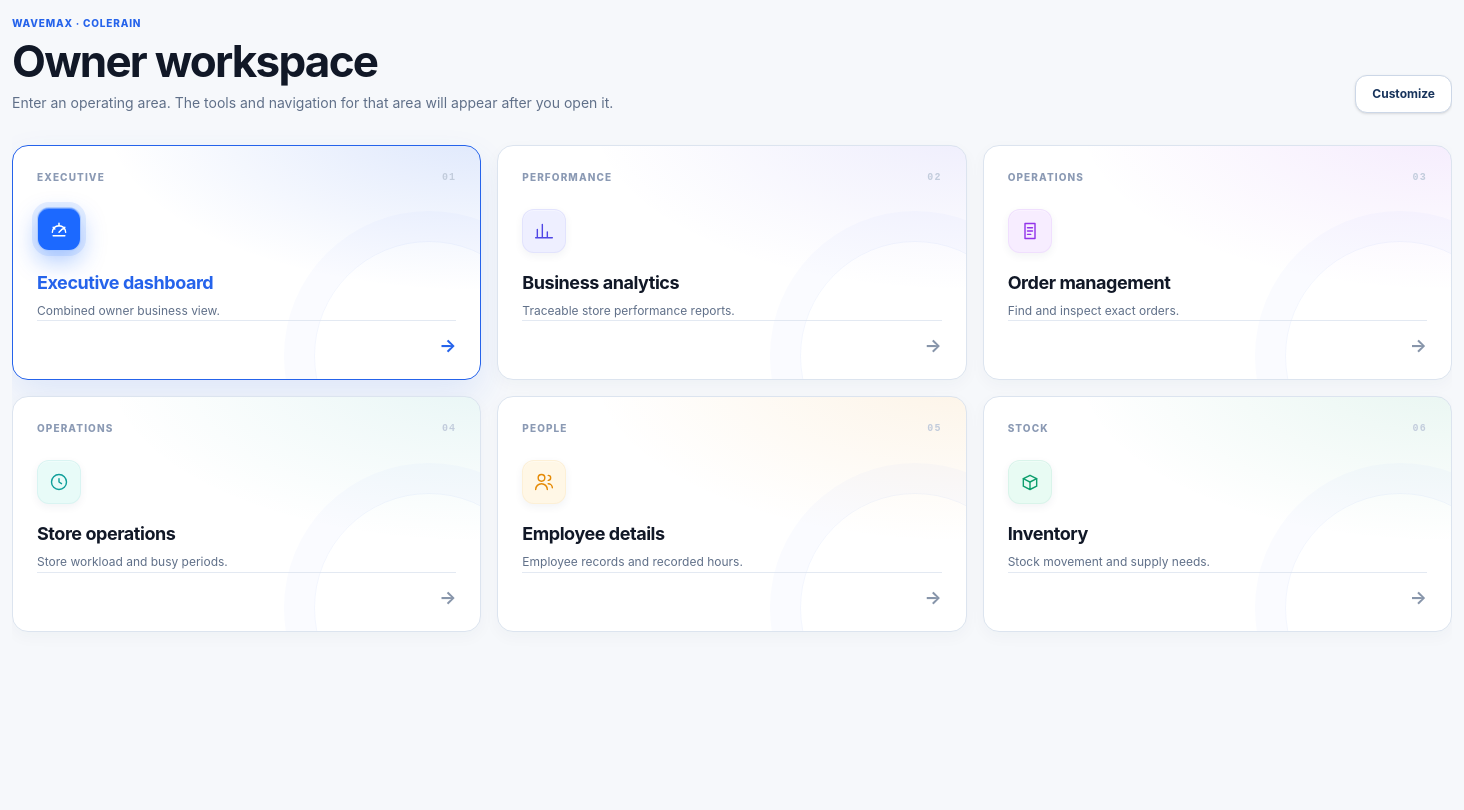
command center customization › hides a tile from the Command Center but keeps it restorable while customizing
Click the button "Customize" at point(1404, 94), box top-left (1355, 75), bottom-right (1452, 113)
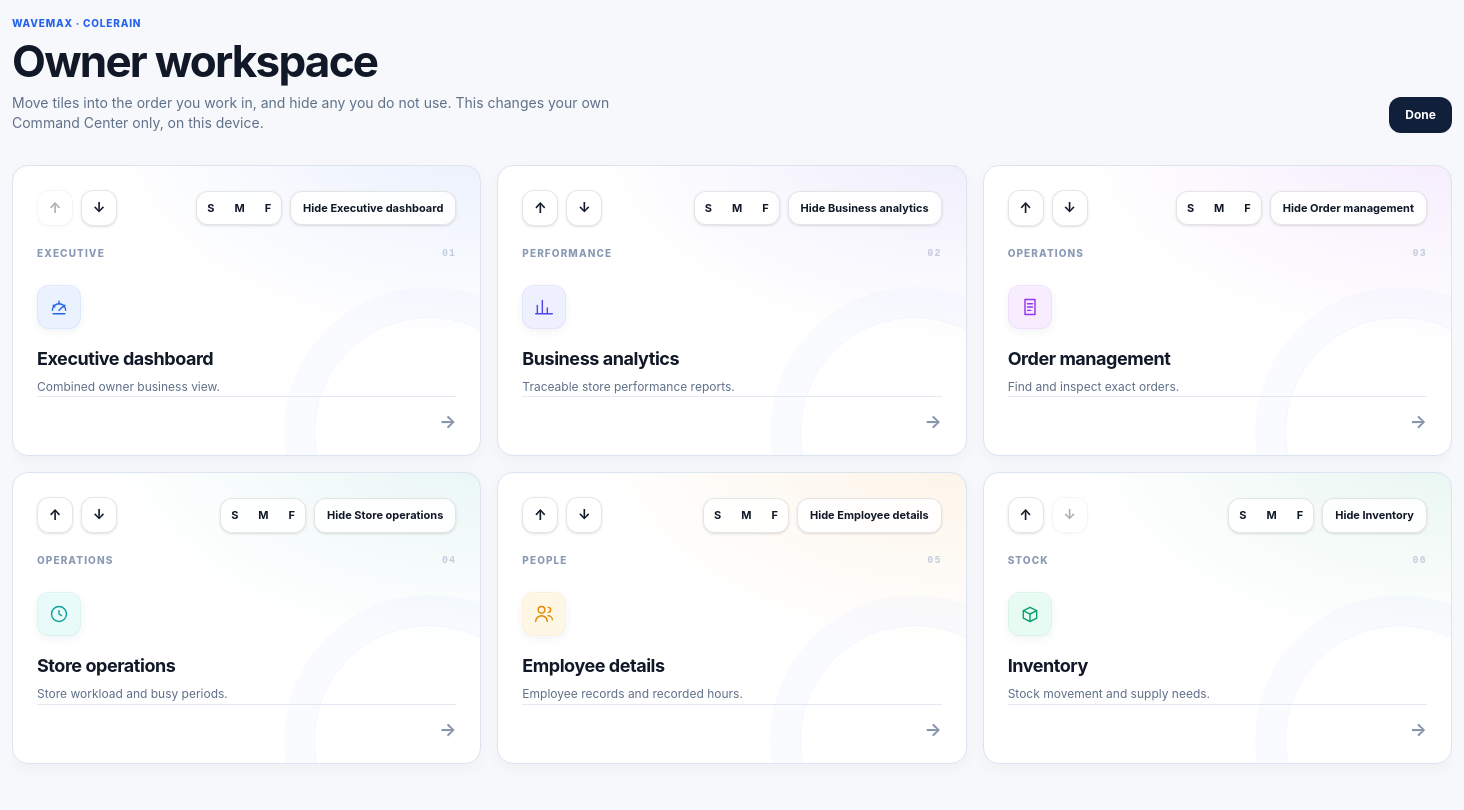
Click the button "Hide Inventory" at point(1375, 515), box top-left (1322, 498), bottom-right (1427, 532)
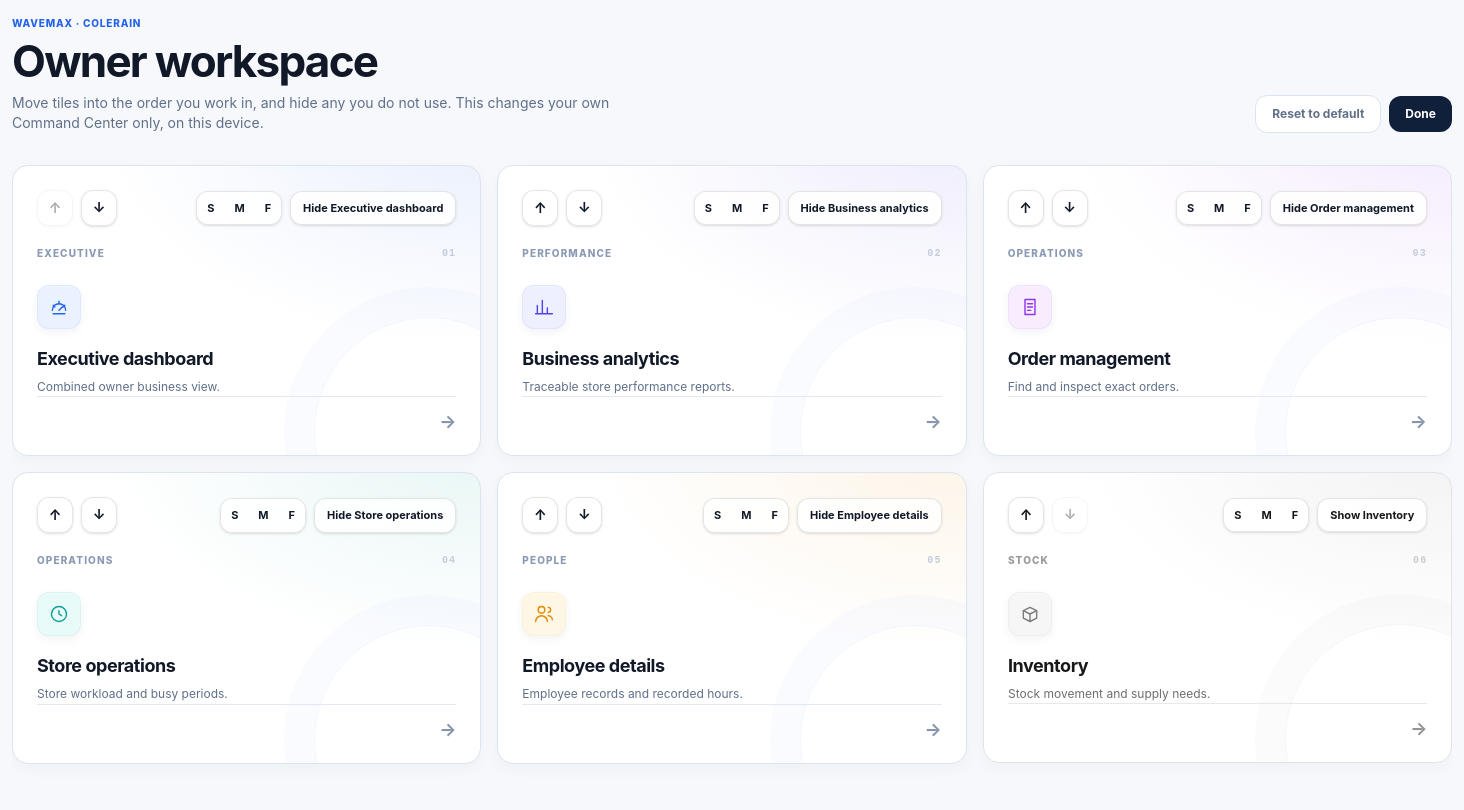
Result: the button "Show Inventory" is shown at top-left (1317, 498), bottom-right (1427, 532)
Click the button "Done" at point(1421, 114), box top-left (1389, 96), bottom-right (1452, 132)
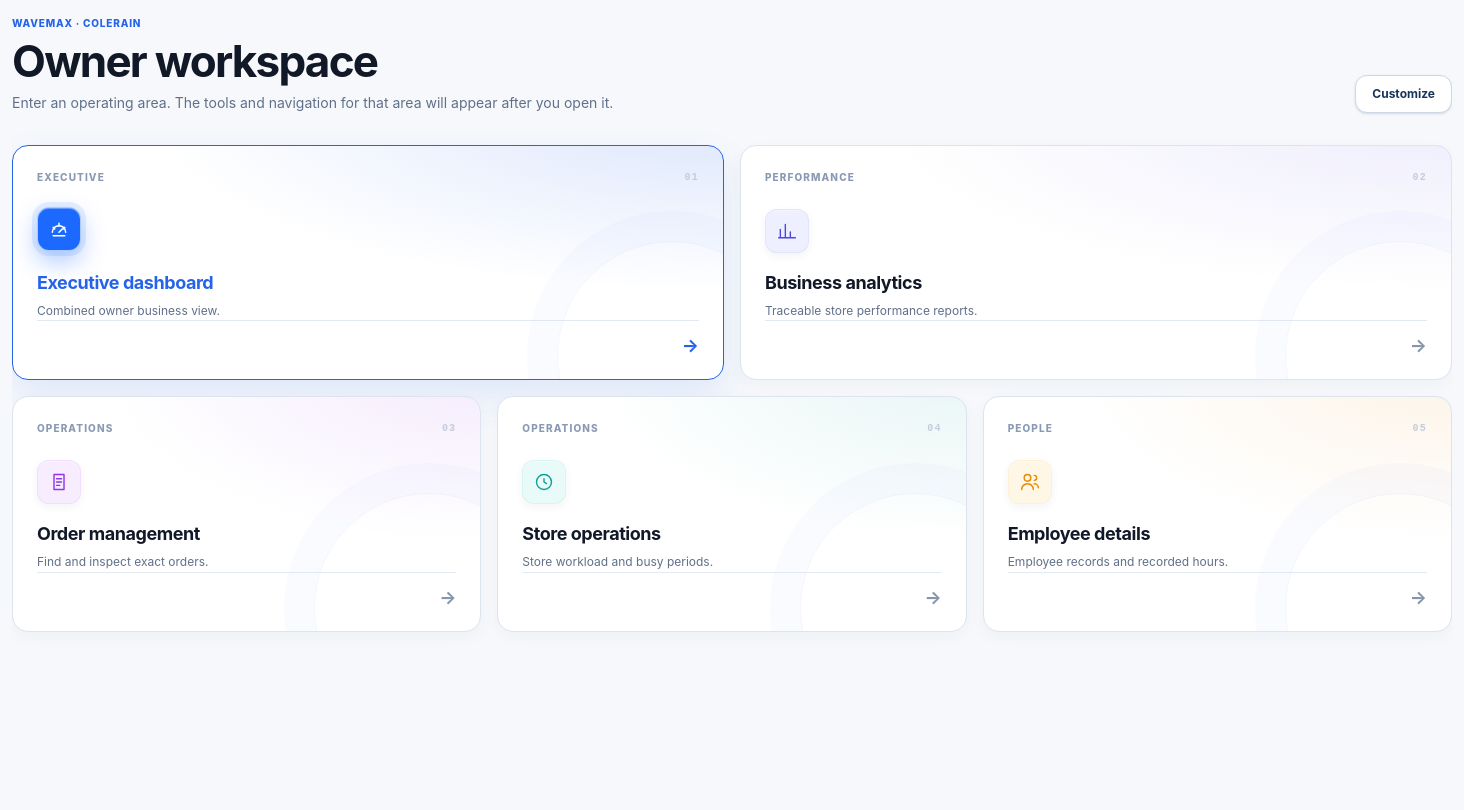
Result: the button "Show Inventory" no longer shows "Inventory"
